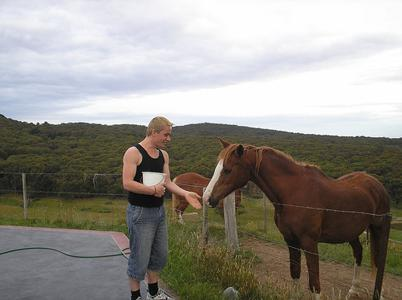person: (123, 116, 203, 300)
